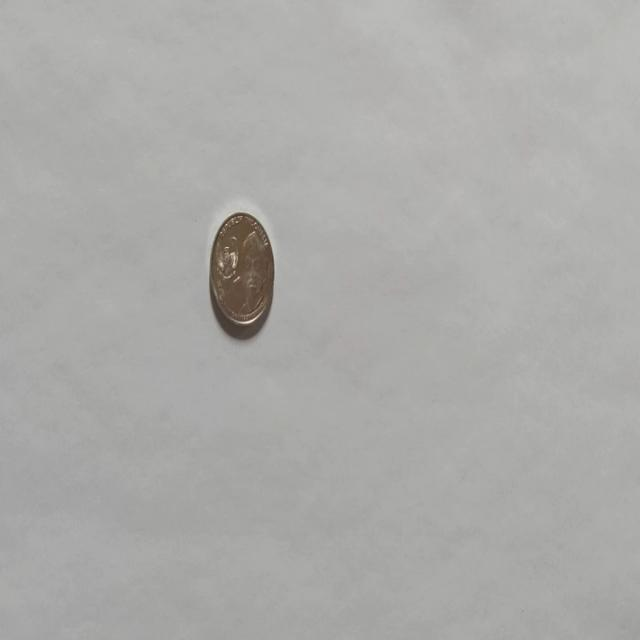dua ratus rupiah: (208, 209, 275, 337)
